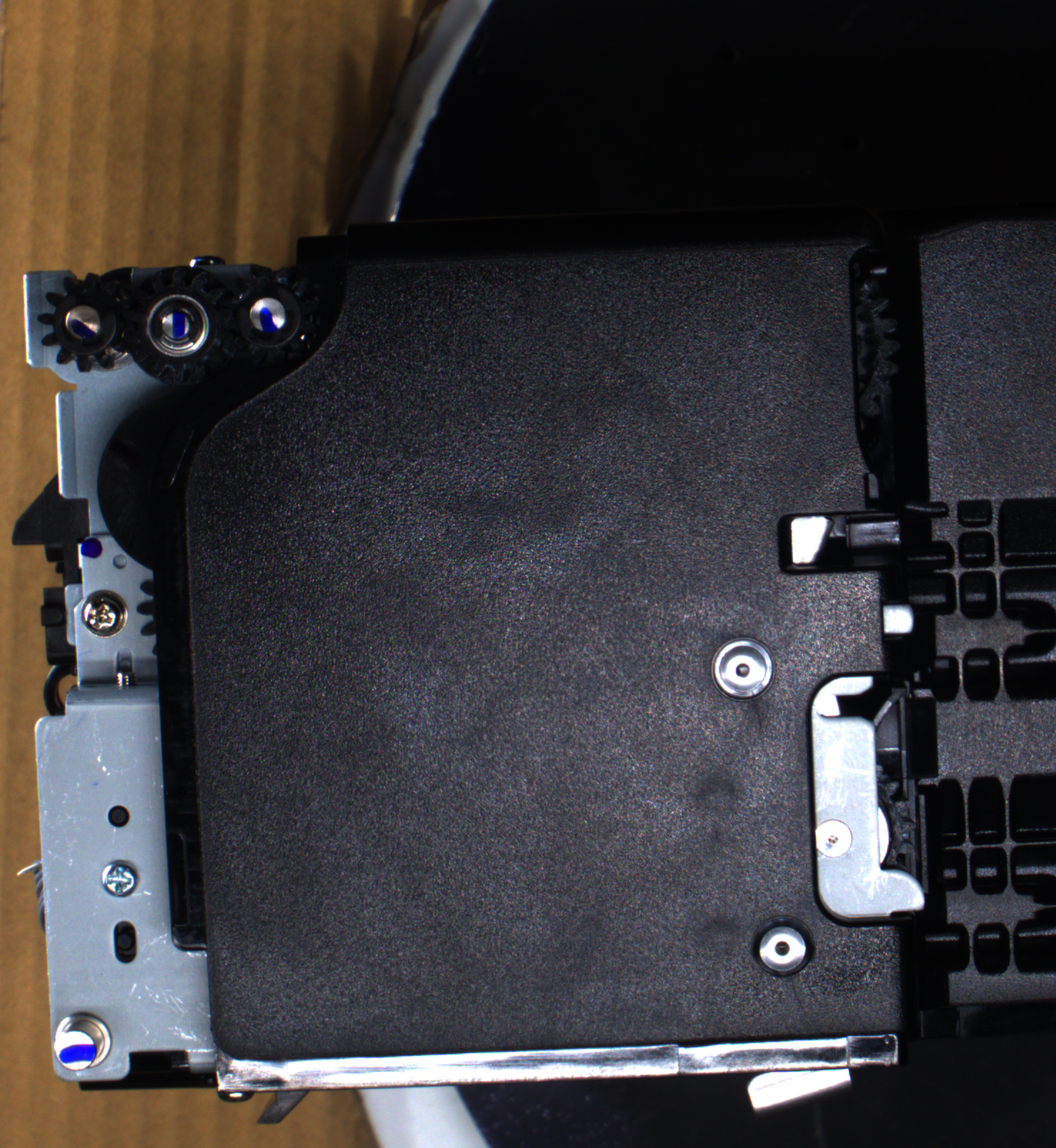centre_pin_presence: (741, 1047, 857, 1116)
centre_plate_presence: (803, 668, 934, 932)
centre_screw_presence: (707, 630, 780, 706), (746, 909, 817, 984)
gear1_presence: (36, 270, 136, 372)
gear2_presence: (121, 265, 234, 384)
gear3_presence: (216, 263, 319, 369)
side_screw_presence: (77, 588, 129, 639), (97, 858, 142, 900)
slanting_pin_presence: (48, 1008, 121, 1078)
